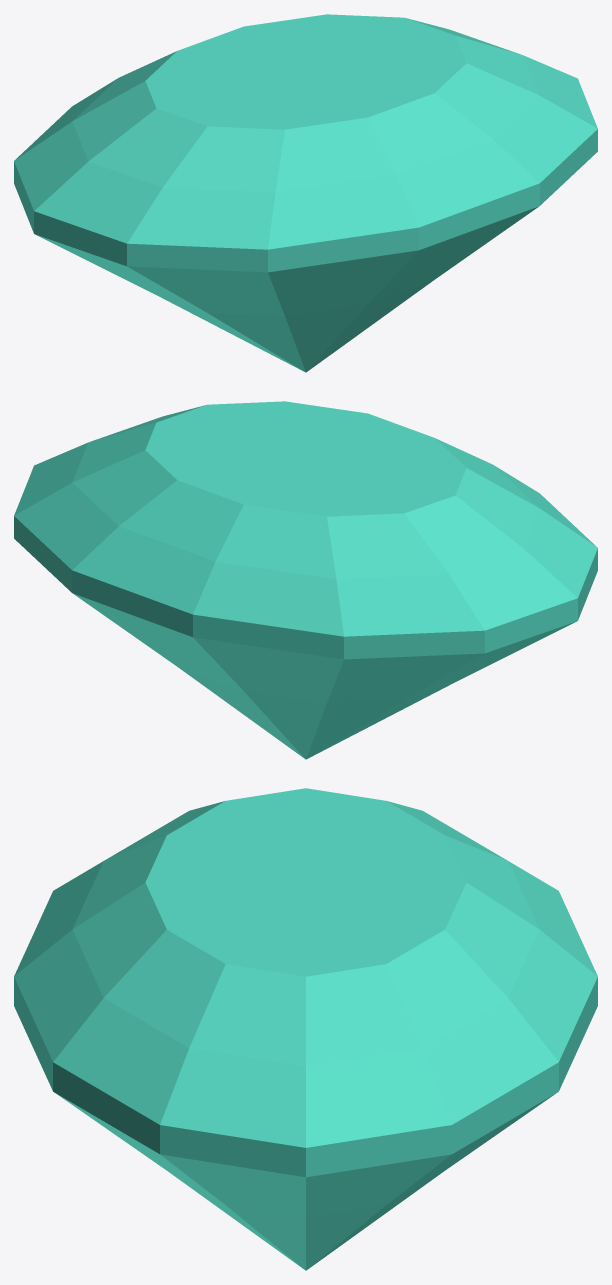
The model's file is tourmaline-glass.glb.
The picture shows the model from 3 angles, top to bottom: view 1: azimuth 30°, elevation 25°; view 2: azimuth 150°, elevation 25°; view 3: azimuth 270°, elevation 25°; orthographic projection. The views are drawn at different scales.
Visible parts, largest first — view 1: Tourmaline; view 2: Tourmaline; view 3: Tourmaline.
Part boxes in pixels (x1,y1,x2,y2): Tourmaline: (14,14,597,372); Tourmaline: (14,401,597,759); Tourmaline: (14,788,597,1270).
Bounding box in the file's own units: 2.5 × 1.32 × 1.8.
